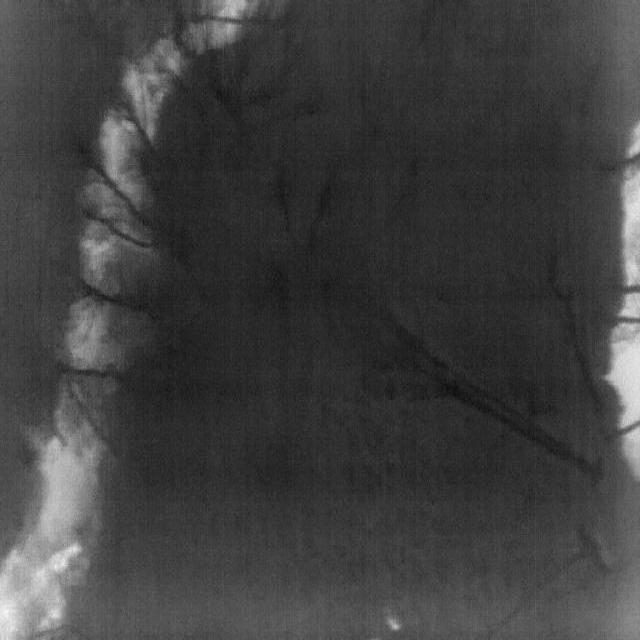deer: (387, 617, 402, 631)
